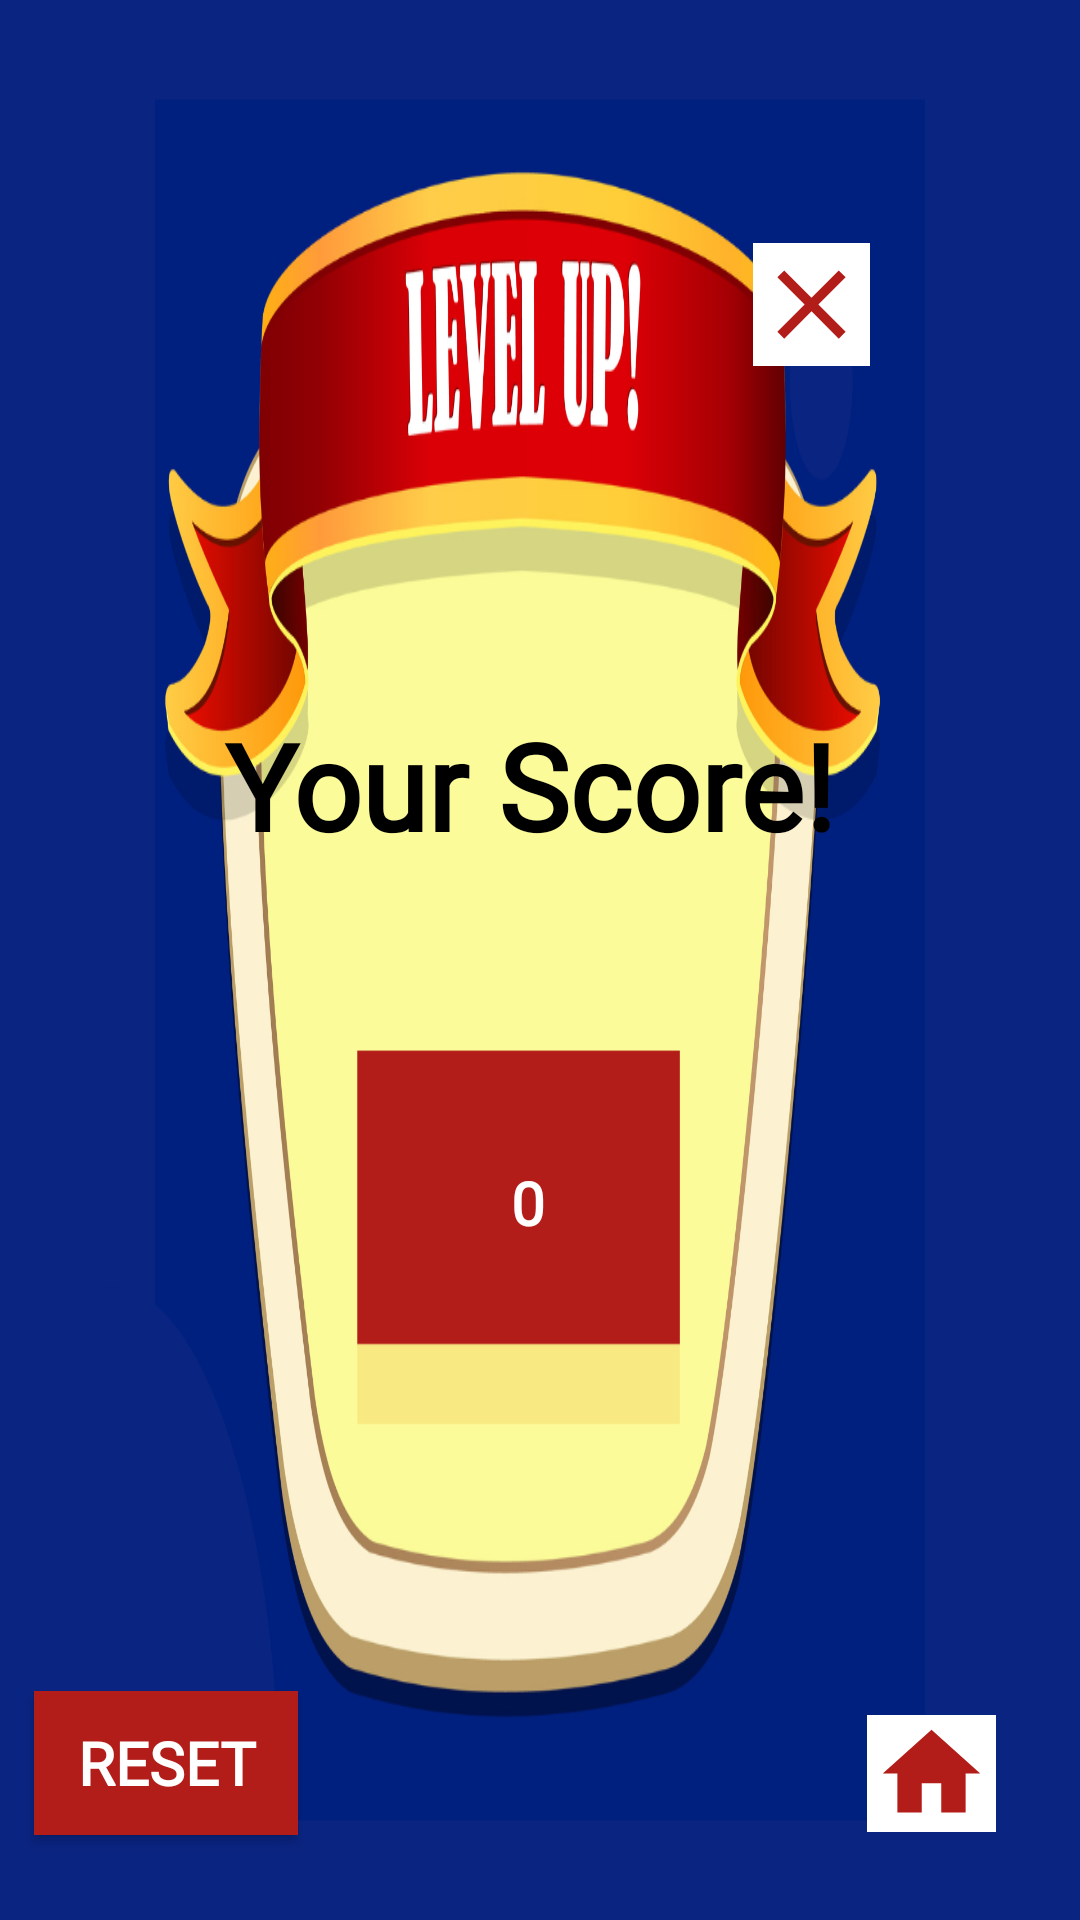

Screen size 1080x1920. Icon name, then its center in pixels as (x,y):
close: (811,304)
home: (931,1773)
